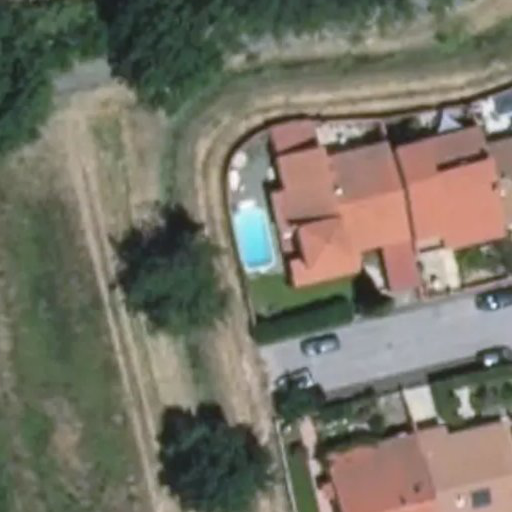pool: (231, 213, 280, 270)
